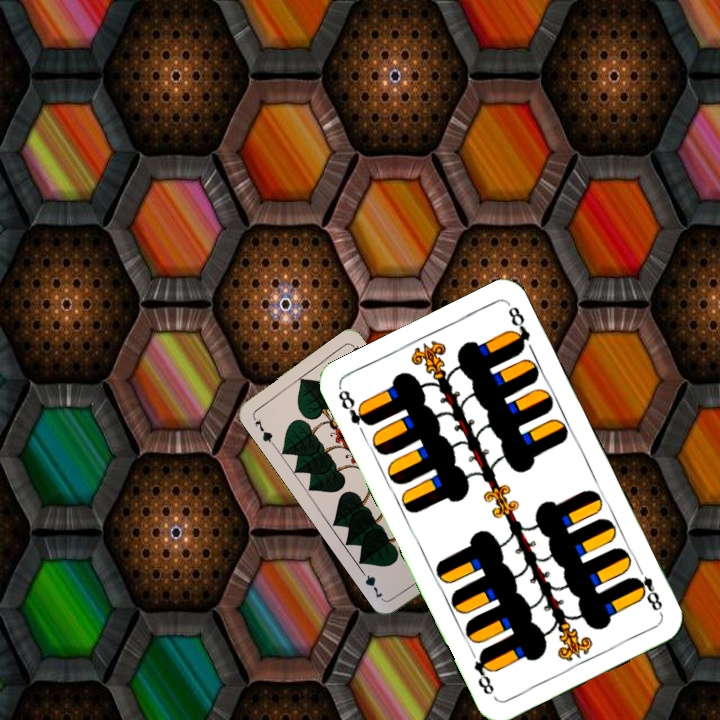E8: (628, 561, 665, 616), (334, 384, 375, 429)
G7: (249, 412, 277, 448)
